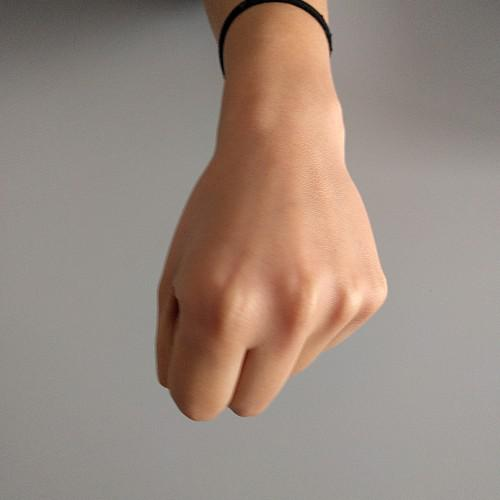rock: (147, 139, 394, 442)
